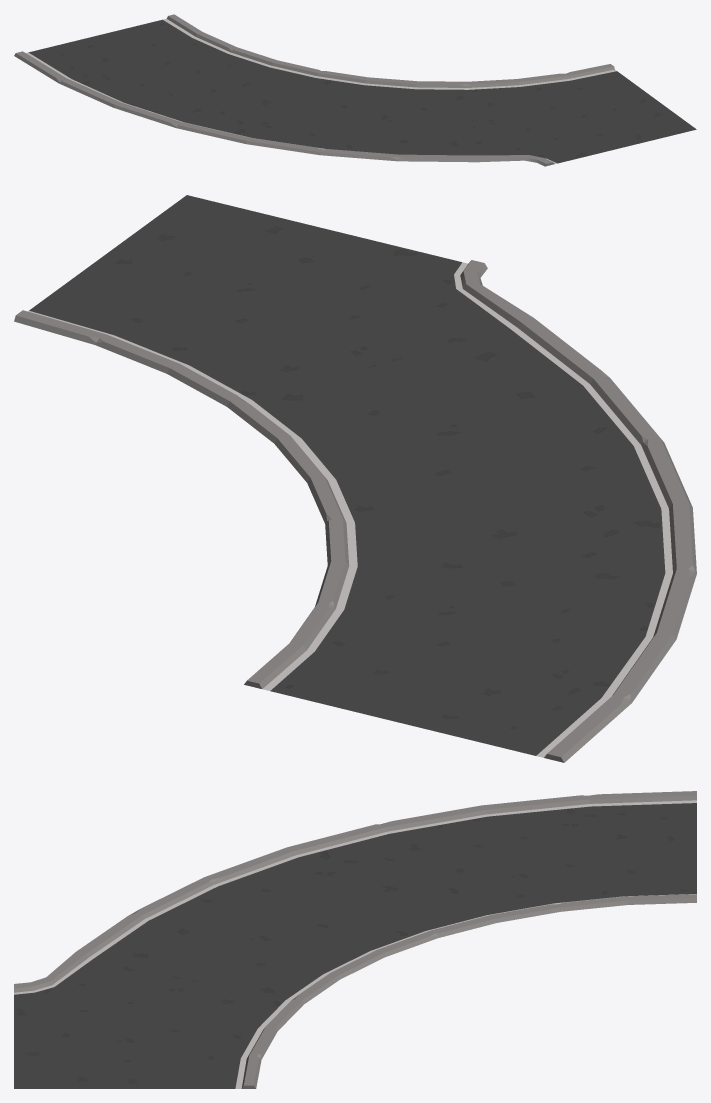
Rendered from SM_Env_Road_Circle_Entrance_01.fbx.
The picture shows the model from 3 angles, top to bottom: view 1: azimuth 30°, elevation 25°; view 2: azimuth 150°, elevation 25°; view 3: azimuth 270°, elevation 25°; orthographic projection. The views are drawn at different scales.
Visible parts, largest first — view 1: SM_Env_Road_Circle_Entrance_01; view 2: SM_Env_Road_Circle_Entrance_01; view 3: SM_Env_Road_Circle_Entrance_01.
Part boxes in pixels (x1,y1,x2,y2): SM_Env_Road_Circle_Entrance_01: (14, 14, 696, 166); SM_Env_Road_Circle_Entrance_01: (14, 195, 696, 762); SM_Env_Road_Circle_Entrance_01: (14, 791, 696, 1088).
Bounding box in the file's own units: 1537 × 8.29 × 1500.
